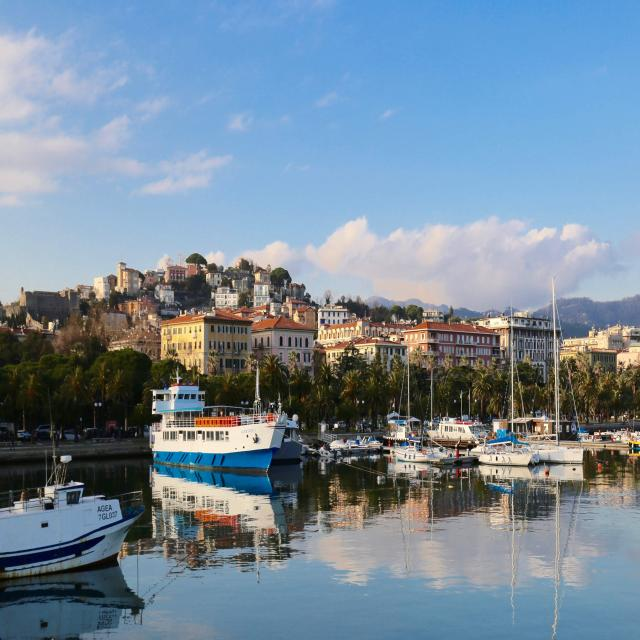cargoship: (145, 371, 300, 473)
houseboat: (482, 440, 531, 477), (427, 413, 476, 449)
